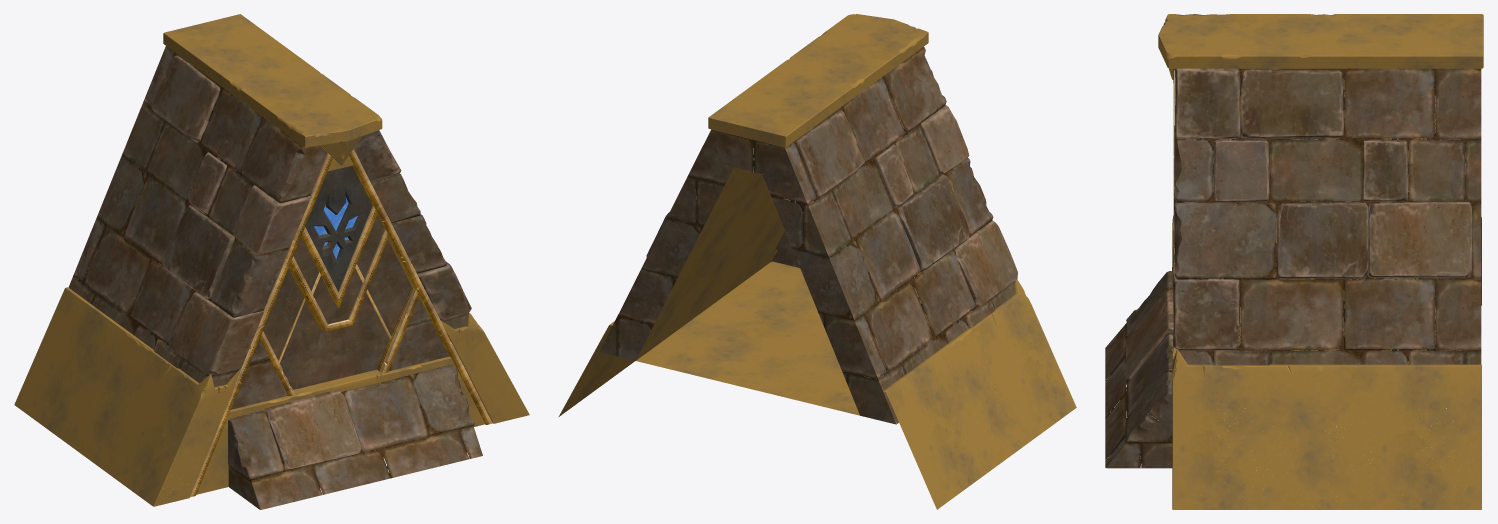
3 views of the same model, side by side, from view 1: azimuth 30°, elevation 25°; view 2: azimuth 150°, elevation 25°; view 3: azimuth 270°, elevation 25° (orthographic). The views are drawn at different scales.
Visible parts, largest first — view 1: SM_DK_VaultEntrance_01_LOD0; view 2: SM_DK_VaultEntrance_01_LOD0; view 3: SM_DK_VaultEntrance_01_LOD0.
Boxes of the visible parts, x1,y1,x2,y2 form: SM_DK_VaultEntrance_01_LOD0: (14,14,529,509); SM_DK_VaultEntrance_01_LOD0: (558,14,1076,509); SM_DK_VaultEntrance_01_LOD0: (1105,14,1483,509).
Bounding box in the file's own units: 9.52 × 8.11 × 7.45.
Materials: 7 (7 with a texture image).
